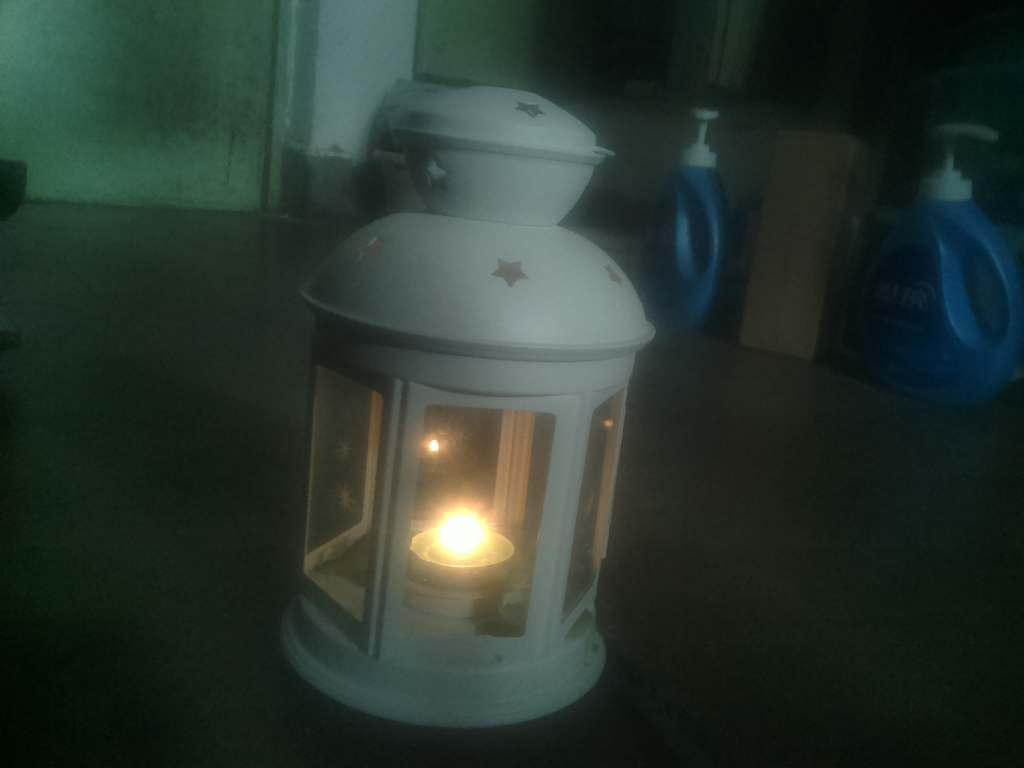fire: (402, 494, 530, 606)
